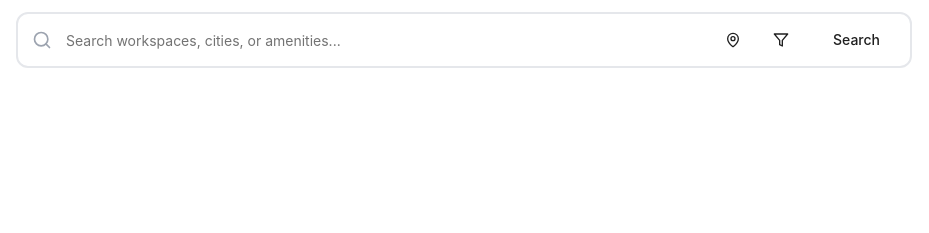
Test: SearchBar Component › Search Functionality › should hide suggestions when Escape key is pressed
The width and height of the screenshot is (929, 233).
# Type to trigger suggestions
In the field: (464, 40) [16,12,912,68], type "tech"
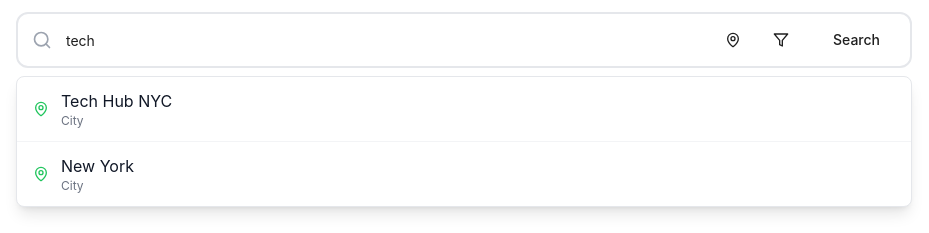
Result: the text "Tech Hub NYC" is shown at [61,91,172,111]
# Press escape to hide suggestions
Press Escape in the field, box [16,12,912,68]
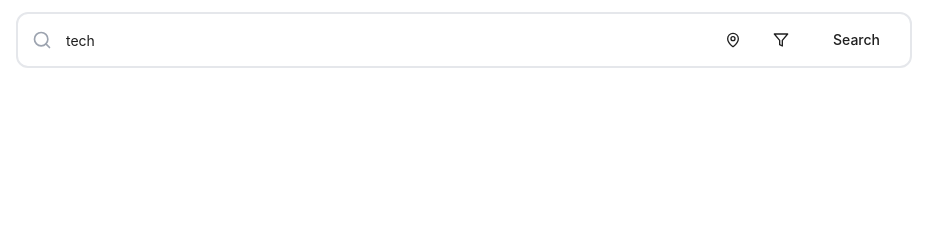
Result: the button "Tech Hub NYC" is gone
